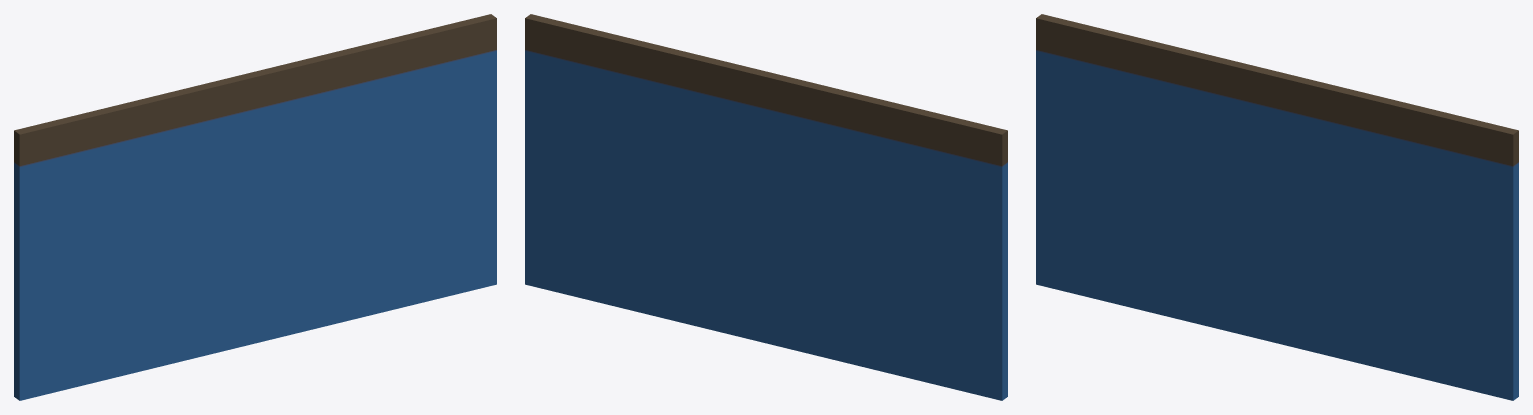
File: SM_Prop_Flag_02.glb
3 views of the same model, side by side, from view 1: azimuth 30°, elevation 25°; view 2: azimuth 150°, elevation 25°; view 3: azimuth 330°, elevation 25° (orthographic).
Visible parts, largest first — view 1: SM_Prop_Flag_02; view 2: SM_Prop_Flag_02; view 3: SM_Prop_Flag_02.
Boxes of the visible parts, bbox=[...] form: SM_Prop_Flag_02: bbox=[14, 14, 496, 400]; SM_Prop_Flag_02: bbox=[525, 14, 1007, 400]; SM_Prop_Flag_02: bbox=[1036, 14, 1518, 400].
Bounding box in the file's own units: 1.66 × 0.8843 × 0.0349.
1 material, 1 textured.
